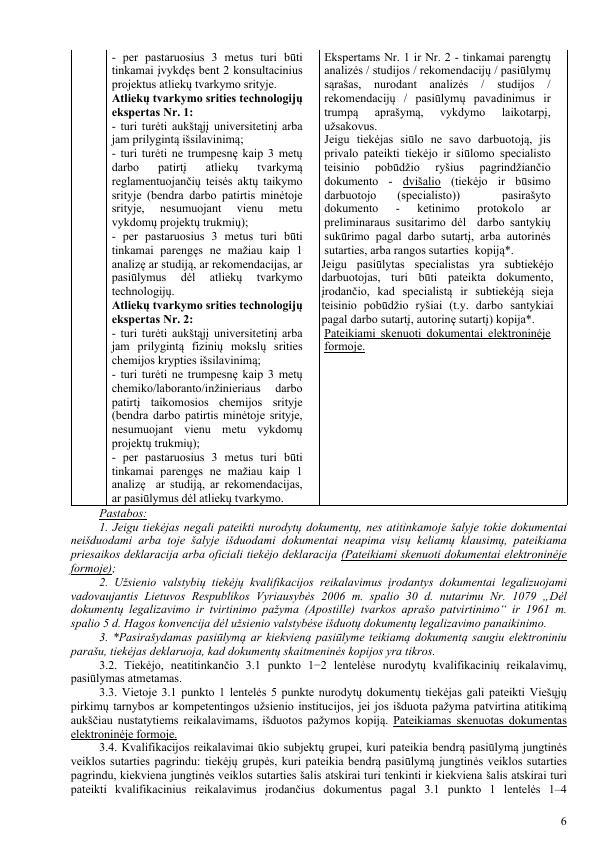table: (69, 47, 570, 507)
text: (66, 509, 569, 799)
